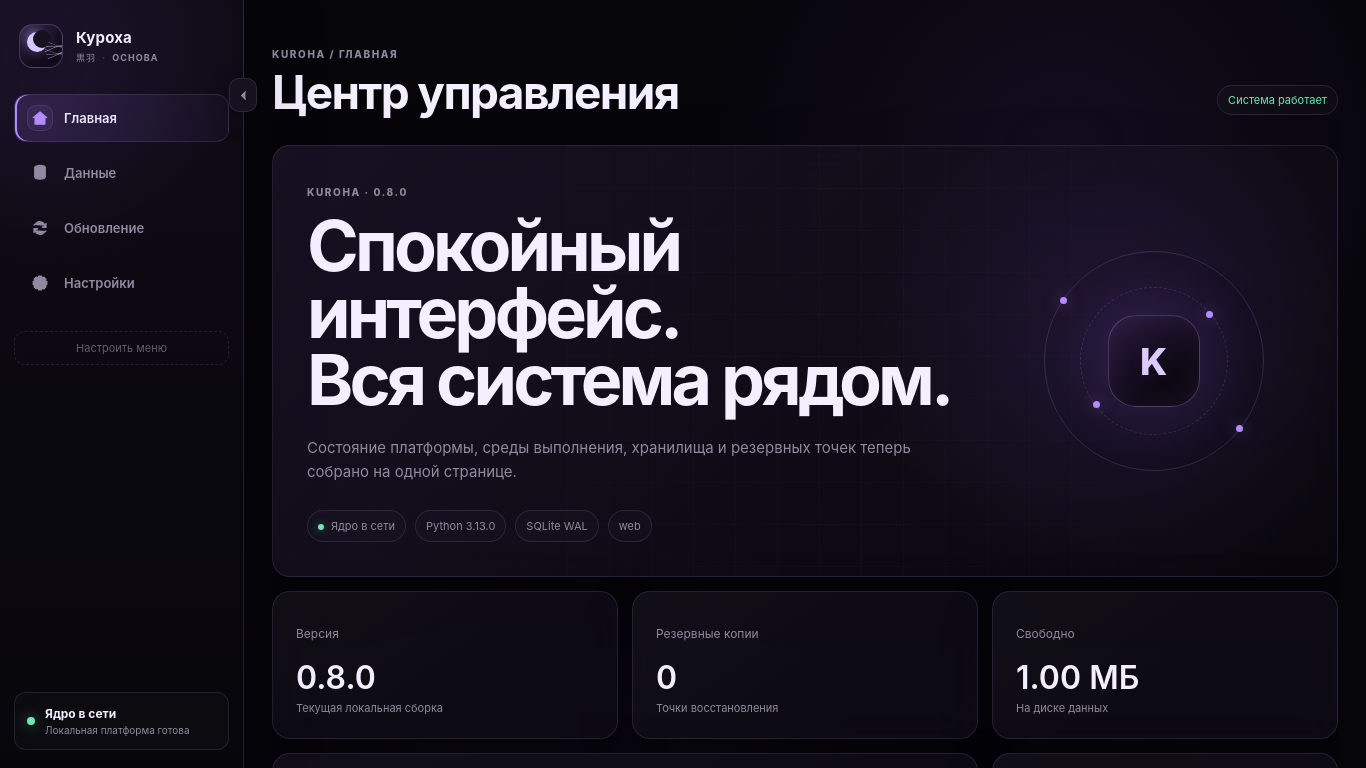
Test: App › can rename and reorder navigation items
The image size is (1366, 768).
Expected: the text "Куроха" is shown, top-left (76, 28), bottom-right (132, 47)
Click the button "Настроить меню" at (122, 348), box top-left (14, 331), bottom-right (229, 365)
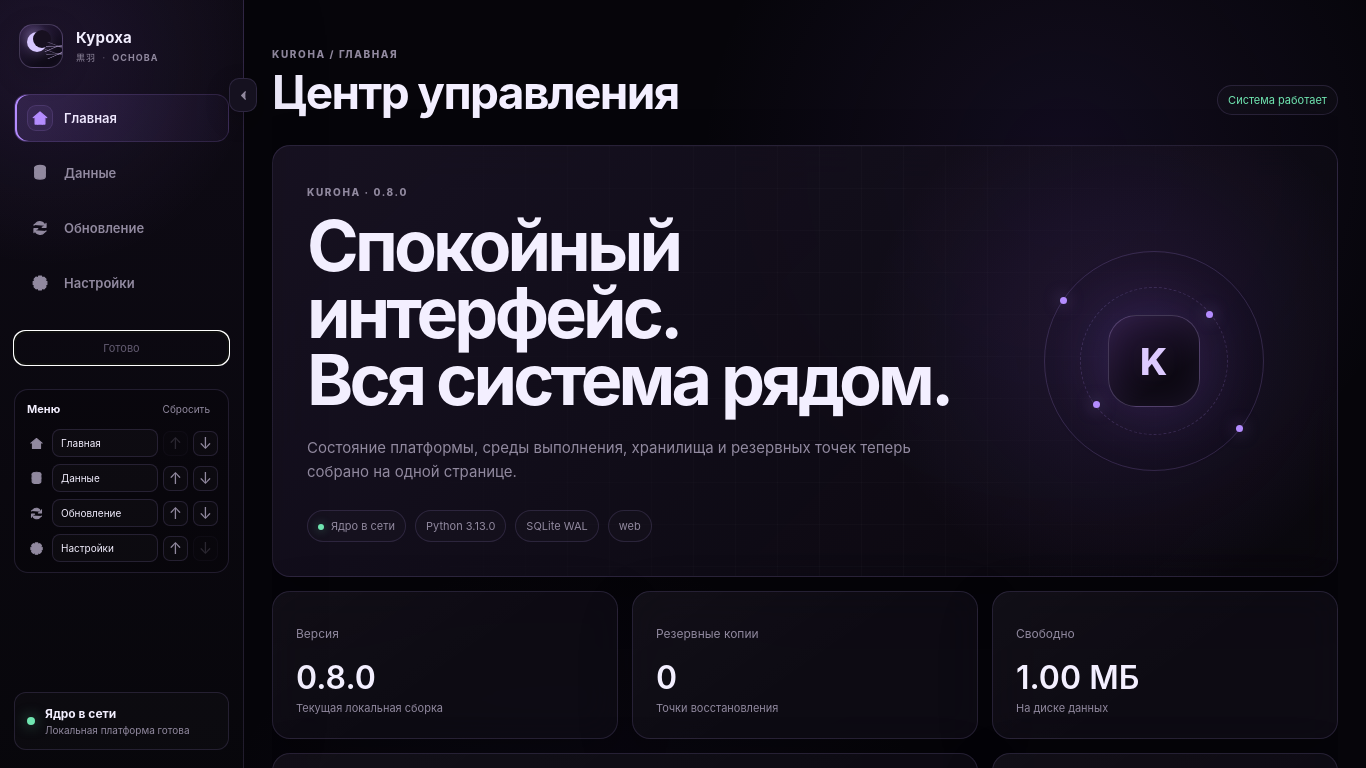
Replace the text in the field named "Название пункта home" with "Панель" at (105, 443), box top-left (52, 429), bottom-right (158, 457)
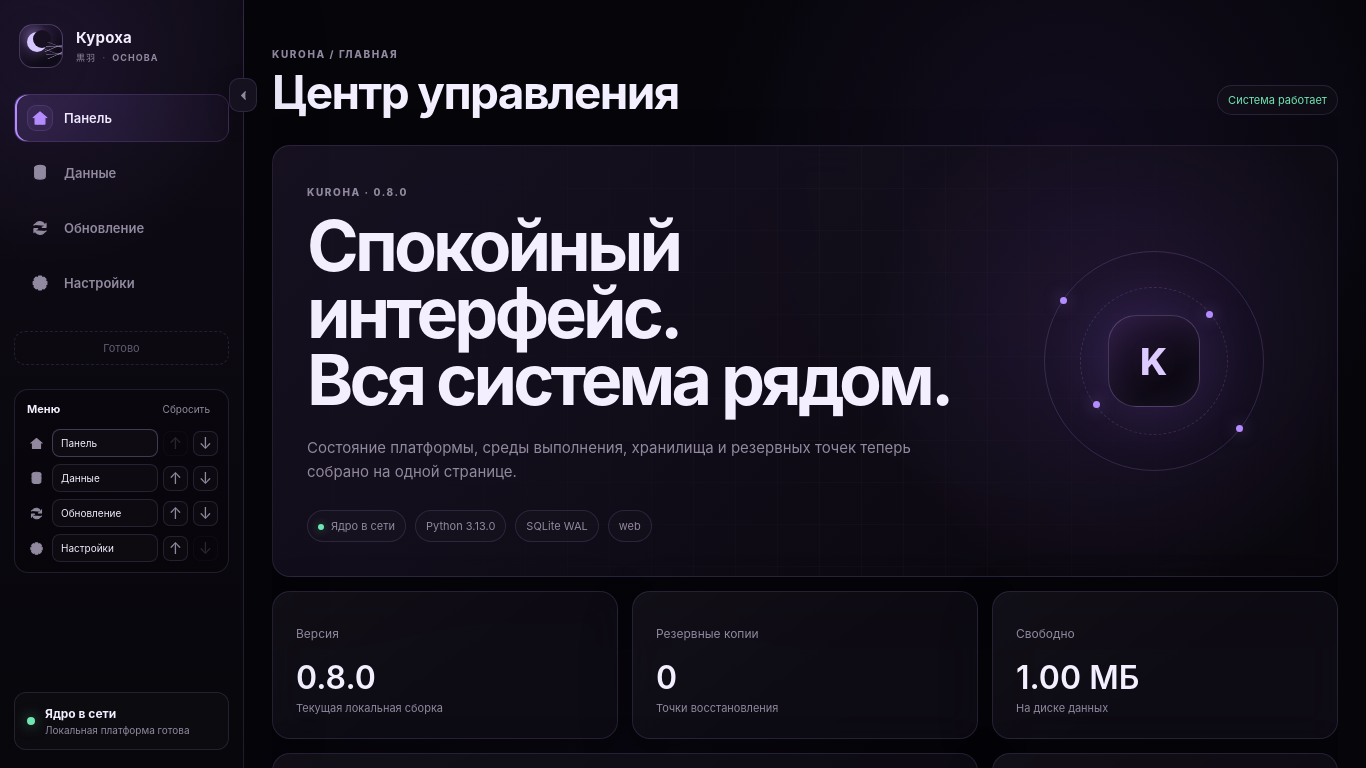
Now the link "Панель" is shown, box top-left (14, 94), bottom-right (229, 142)
